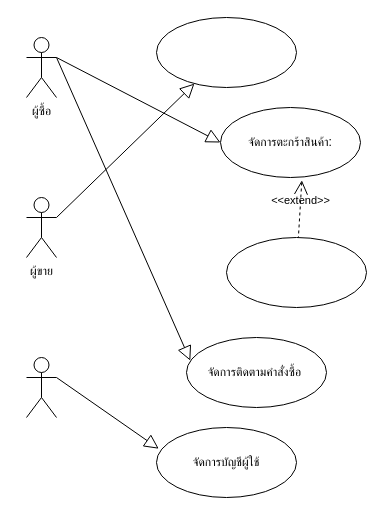
Some shapes in this 384 by 515 pixel diagram are drawn without their labels. The shapes that lost their labels are listed below. From the top down, each one's box as (x1, y1, x2, y2) in pixels, then its label:
(156, 16, 296, 88): จัดการสินค้า:
(226, 236, 366, 308): จัดการสั่งซื้อและการชำระเงิน
(26, 356, 56, 418): ผู้ดูแลระบบ
